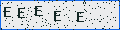E: (35, 6, 44, 17), (77, 12, 85, 22), (54, 11, 62, 21), (18, 8, 25, 18), (4, 7, 11, 17)
